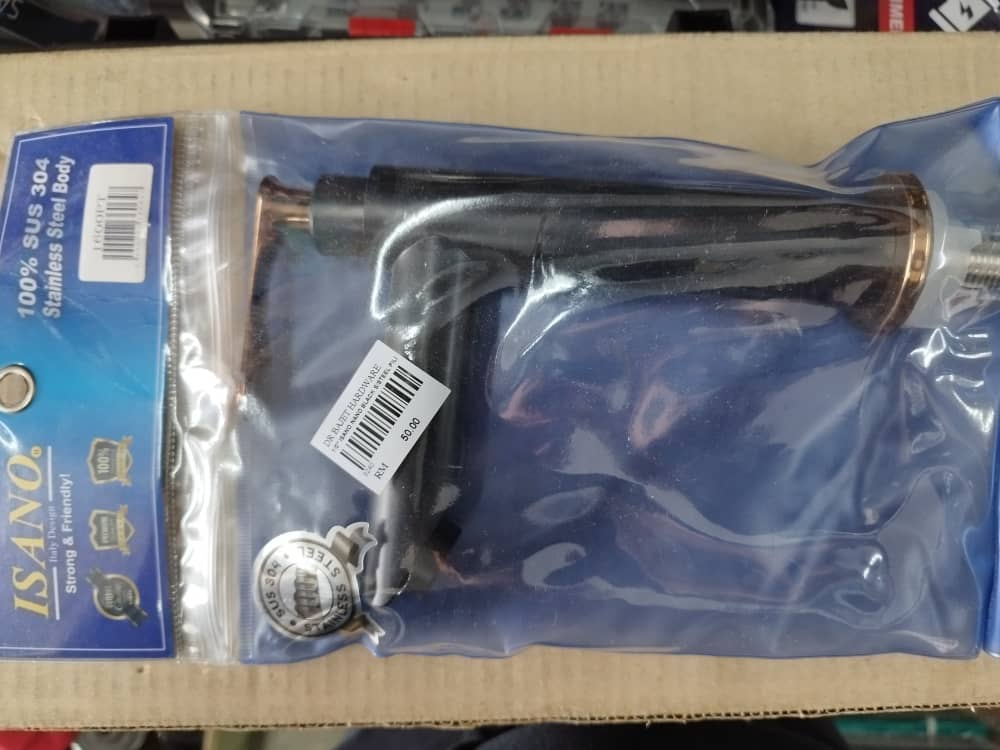sku_water_tap: (184, 123, 980, 644)
